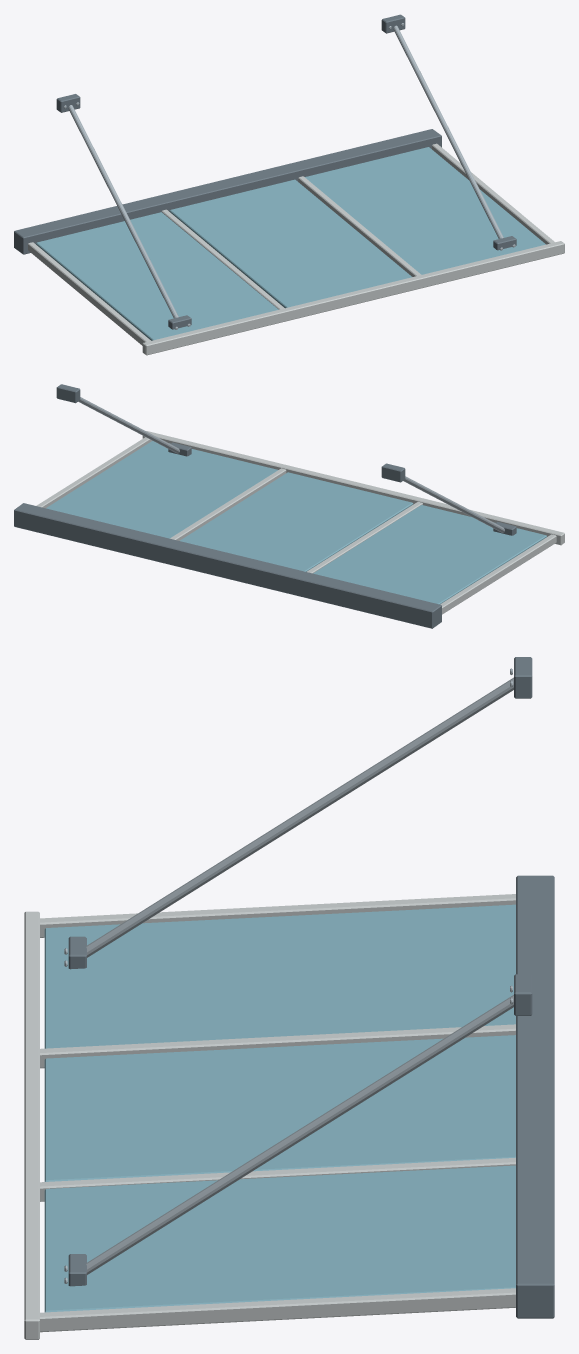
Rendered from b12_suspended_glass_entry_canopy.glb.
3 renders of one model, top to bottom at view 1: azimuth 30°, elevation 25°; view 2: azimuth 150°, elevation 25°; view 3: azimuth 270°, elevation 25°, orthographic. The views are drawn at different scales.
Visible parts, largest first — view 1: b12_suspended_glass_entry_canopy; view 2: b12_suspended_glass_entry_canopy; view 3: b12_suspended_glass_entry_canopy.
Part boxes in pixels (box(x1,y1,x2,y2)): b12_suspended_glass_entry_canopy: box(14, 14, 564, 355); b12_suspended_glass_entry_canopy: box(14, 384, 564, 628); b12_suspended_glass_entry_canopy: box(24, 657, 554, 1339).
Size of the model in its own units: 2.76 by 0.98 by 1.51.
